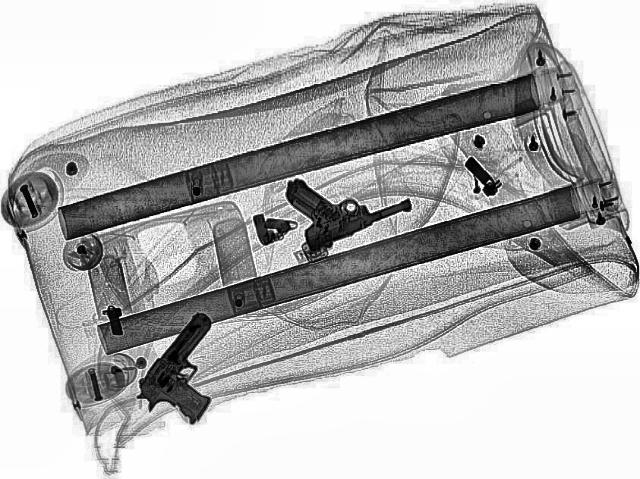Gun: (123, 310, 264, 426), (262, 152, 420, 252)
